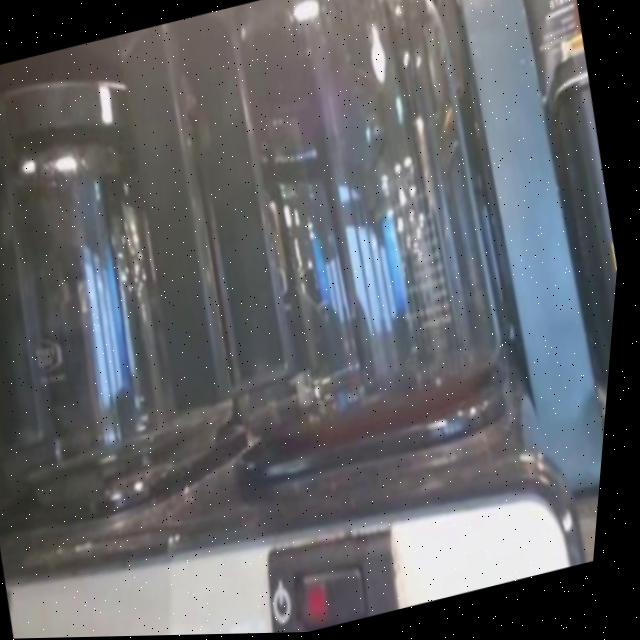nocoffee: (177, 0, 541, 437), (0, 129, 256, 476)
